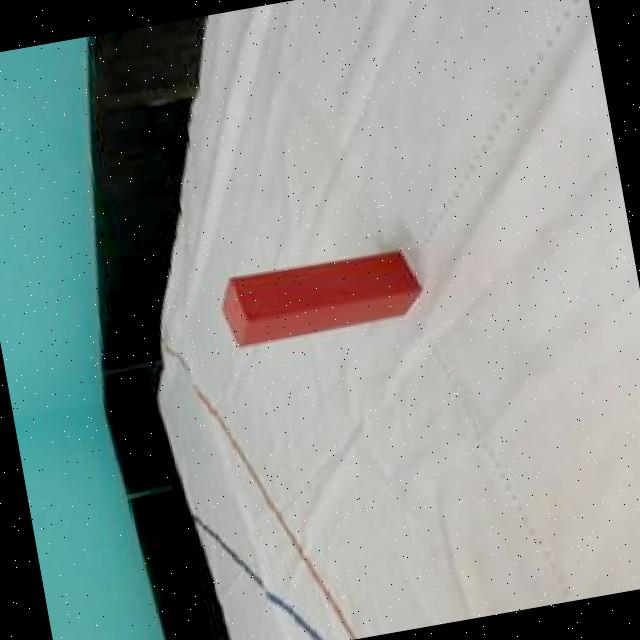redbox: (212, 244, 426, 352)
